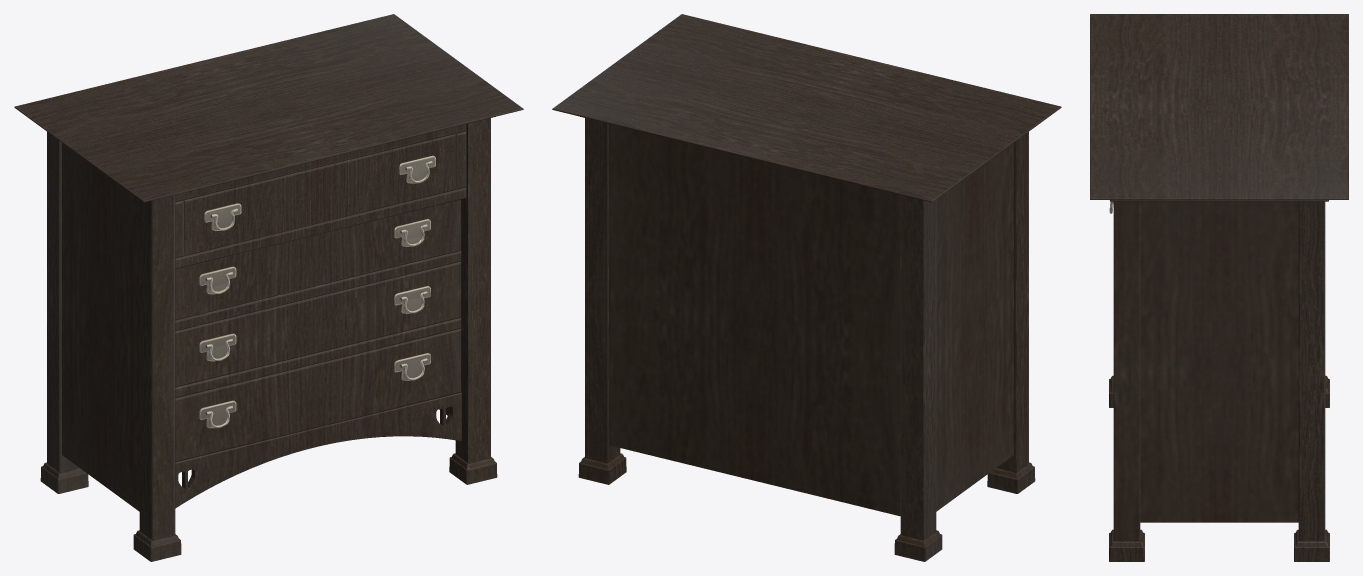
The model's file is raw_model.obj.
The picture shows the model from 3 angles, left to right: view 1: azimuth 30°, elevation 25°; view 2: azimuth 150°, elevation 25°; view 3: azimuth 270°, elevation 25°; orthographic projection.
Visible parts, largest first — view 1: solid_001, solid_002; view 2: solid_001; view 3: solid_001.
Part boxes in pixels (x1,y1,x2,y2): solid_001: [14, 14, 523, 561]; solid_002: [199, 155, 435, 428]; solid_001: [552, 14, 1061, 561]; solid_001: [1090, 14, 1348, 561].
Size of the model in its own units: 0.6599 by 0.6174 by 0.3899.
1 material, 1 textured.
